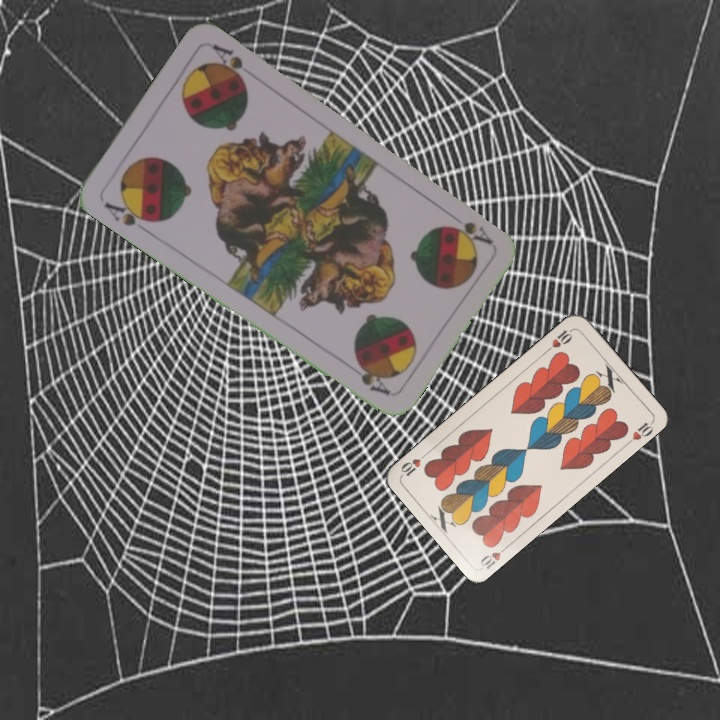H10: (476, 541, 512, 572), (541, 325, 576, 355)
SA: (100, 194, 157, 229), (446, 217, 496, 248)
